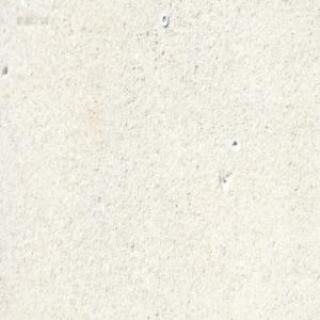Washertrack_idkeyframe: (160, 12, 168, 27)
